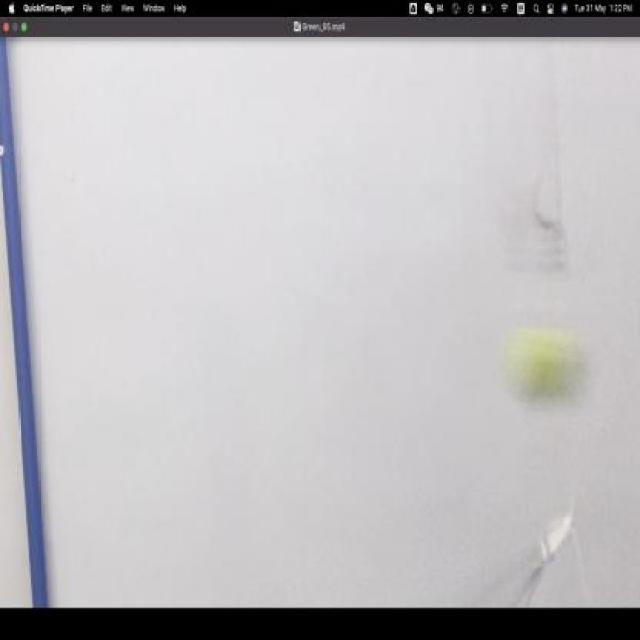baseball: (499, 315, 593, 408)
